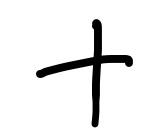plus: (32, 16, 132, 126)
